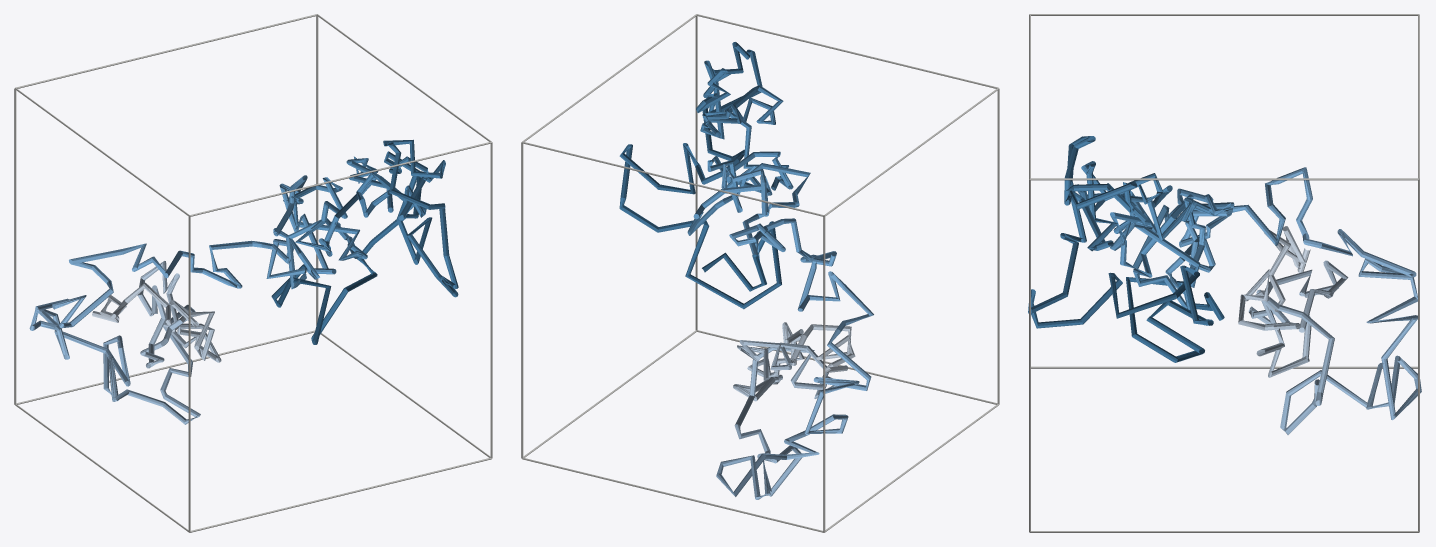
3 views of the same model, side by side, from view 1: azimuth 30°, elevation 25°; view 2: azimuth 150°, elevation 25°; view 3: azimuth 270°, elevation 25° (orthographic). The views are drawn at different scales.
Visible parts, largest first — view 1: geometry_0, geometry_1; view 2: geometry_0, geometry_1; view 3: geometry_0, geometry_1.
Boxes of the visible parts, x1,y1,x2,y2 form: geometry_0: (29, 139, 458, 424); geometry_1: (14, 14, 492, 532); geometry_0: (619, 42, 873, 499); geometry_1: (521, 14, 999, 532); geometry_0: (1028, 136, 1421, 434); geometry_1: (1029, 14, 1419, 532).
Bounding box in the file's own units: 0.3042 × 0.3038 × 0.3037.
